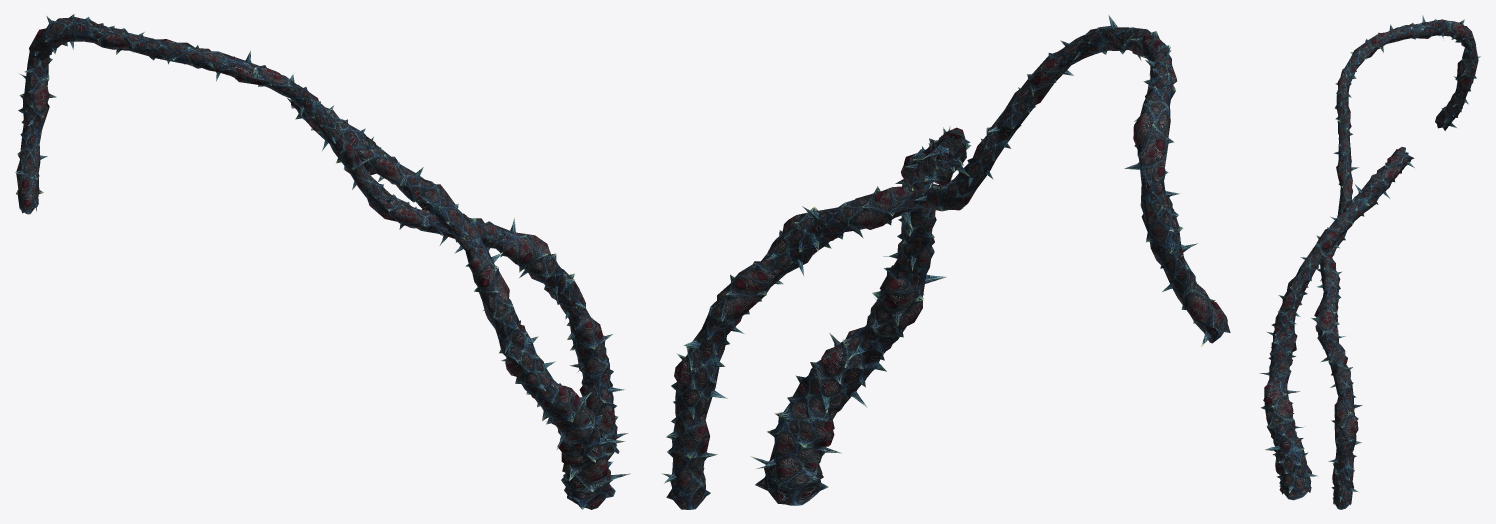
File: 02_03_Makaijyu_08.fbx
The picture shows the model from 3 angles, left to right: view 1: azimuth 30°, elevation 25°; view 2: azimuth 150°, elevation 25°; view 3: azimuth 270°, elevation 25°; orthographic projection. The views are drawn at different scales.
Visible parts, largest first — view 1: LODGroup_3_MainMesh_1_SubMesh_1; view 2: LODGroup_3_MainMesh_1_SubMesh_1; view 3: LODGroup_3_MainMesh_1_SubMesh_1.
Boxes of the visible parts, x1,y1,x2,y2 form: LODGroup_3_MainMesh_1_SubMesh_1: (14, 14, 630, 509); LODGroup_3_MainMesh_1_SubMesh_1: (661, 14, 1230, 509); LODGroup_3_MainMesh_1_SubMesh_1: (1259, 14, 1480, 509).
Size of the model in its own units: 1561 by 1421 by 828.
